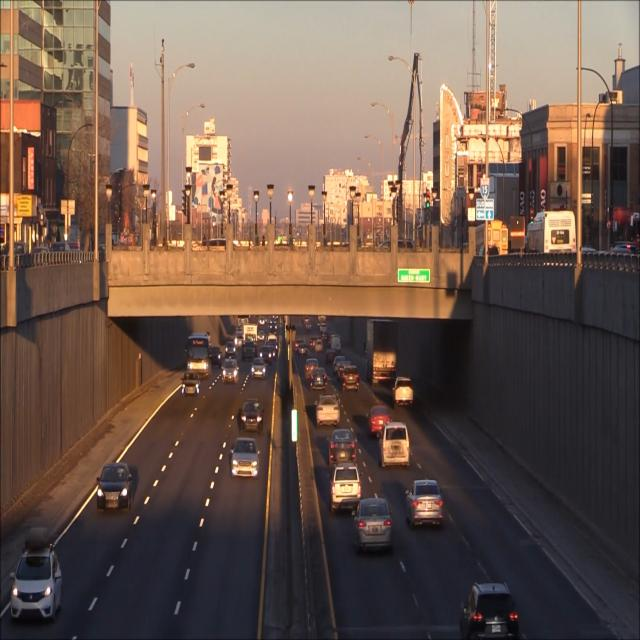Car: (9, 527, 63, 628), (461, 581, 521, 640), (352, 496, 391, 556), (404, 478, 444, 535), (366, 320, 400, 385), (94, 460, 134, 515), (330, 464, 363, 519), (379, 422, 410, 469), (229, 437, 260, 481), (326, 427, 360, 466), (187, 332, 211, 378), (315, 393, 341, 428), (366, 405, 390, 441), (239, 400, 263, 436), (392, 377, 414, 407), (310, 363, 330, 391), (182, 368, 200, 398), (221, 358, 239, 387), (342, 364, 359, 394), (250, 357, 267, 379)
